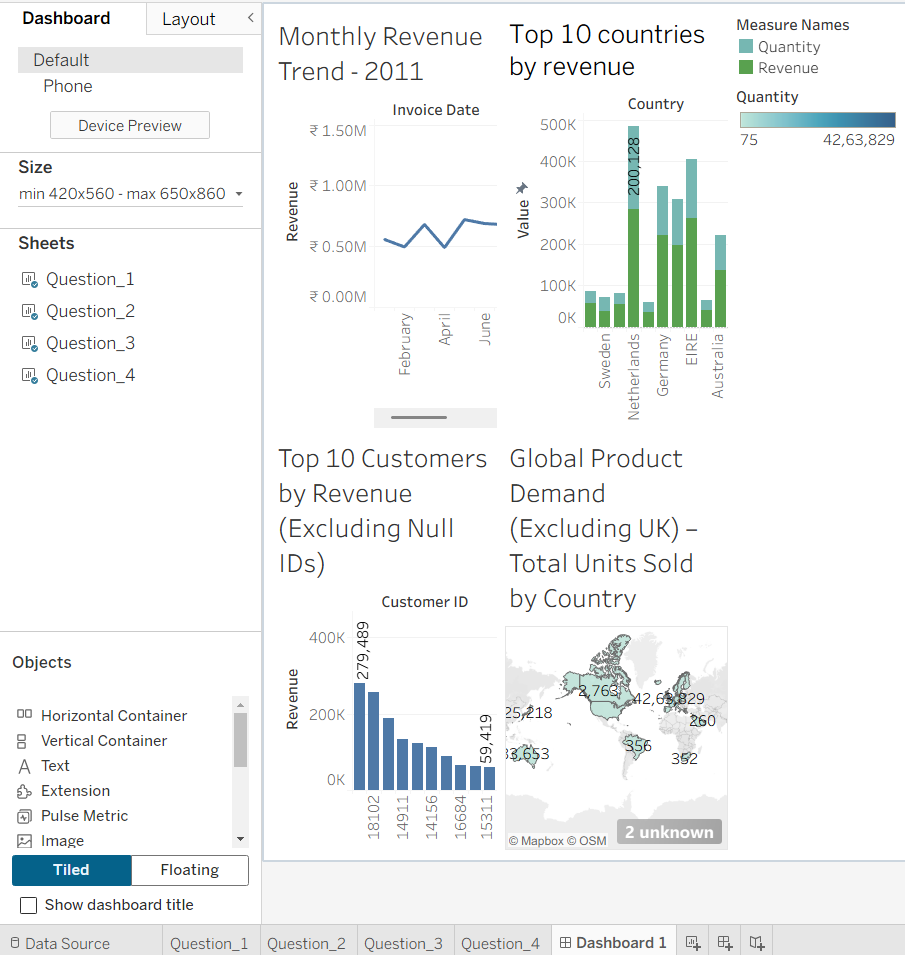

This screenshot's page, from the dashboard's own definition file:
{"tool":"tableau","page":{"name":"Dashboard 1","canvas":[650,860],"ordinal":0},"visuals":[{"type":"worksheet","title":"Question_1","mark":"Automatic","rows":["Calculation_329607222673973248"],"cols":["InvoiceDate"],"box":[8,8,231,422]},{"type":"worksheet","title":"Question_2","mark":"Automatic","cols":["Country"],"box":[239,8,231,422]},{"type":"legend","title":"Question_2","param":"[federated.10tqnw90yiwkot17s3bd50edjsy5].[:Measure Names]","box":[470,8,172,72]},{"type":"legend","title":"Question_4","param":"[federated.10tqnw90yiwkot17s3bd50edjsy5].[sum:Quantity:qk]","box":[470,80,172,73]},{"type":"worksheet","title":"Question_3","mark":"Automatic","rows":["Calculation_329607222673973248"],"cols":["CustomerID"],"box":[8,430,231,422]},{"type":"worksheet","title":"Question_4","mark":"Automatic","box":[239,430,231,422]}]}

Visuals, with their boxes on the page's 650x860 design canvas (x1, y1, x2, y2). These are canvas units, not pixel positions in the 905x955 screenshot, which may show the page scaled, cropped or inside an application window:
"Question_1" worksheet: l=8, t=8, r=239, b=430
"Question_2" worksheet: l=239, t=8, r=470, b=430
"Question_2" legend: l=470, t=8, r=642, b=80
"Question_4" legend: l=470, t=80, r=642, b=153
"Question_3" worksheet: l=8, t=430, r=239, b=852
"Question_4" worksheet: l=239, t=430, r=470, b=852
